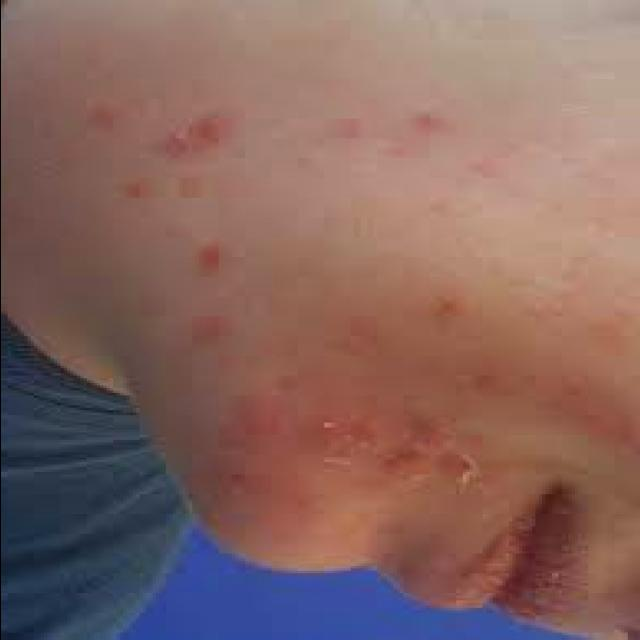Acne: (441, 449, 485, 482), (193, 240, 231, 274), (154, 128, 192, 160), (309, 412, 347, 442), (195, 114, 232, 144), (412, 105, 448, 134), (192, 319, 228, 347), (87, 104, 119, 131), (430, 294, 462, 320)
